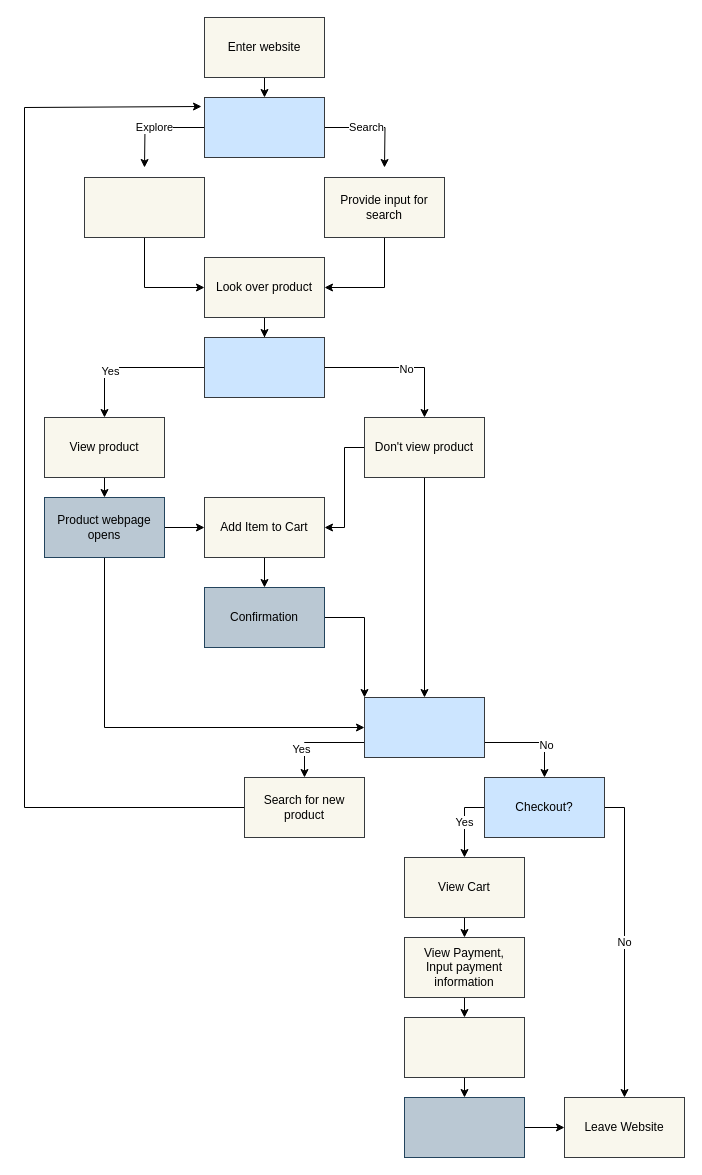
The diagram is 702 pixels wide and 1175 high, and some of its shapes have lost their labels. Here are the shapes that lost their labels. From the top down, the centre of each, then its label:
pixel 264 127: Explore or Search?
pixel 144 207: Explore products on home page
pixel 264 367: View product?
pixel 424 727: Continue shopping?
pixel 464 1047: Pay for products
pixel 464 1127: Confirmation + Email
